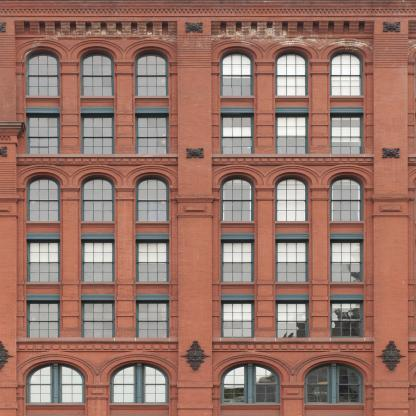Building Outline: (0, 0, 416, 416)
Cornice: (16, 351, 179, 382), (212, 351, 374, 382), (212, 164, 374, 186), (211, 38, 373, 60), (16, 164, 178, 186), (15, 38, 177, 60), (220, 107, 254, 113), (275, 107, 309, 113), (135, 107, 169, 113), (81, 294, 115, 300), (275, 294, 309, 300), (330, 233, 364, 239), (275, 233, 309, 239), (330, 107, 363, 113), (26, 107, 59, 113), (81, 107, 114, 113), (136, 294, 169, 300), (27, 294, 60, 300), (331, 294, 364, 300), (221, 294, 254, 300), (221, 233, 254, 239), (136, 233, 169, 239), (27, 233, 60, 239), (82, 233, 115, 239)
Deco: (376, 340, 407, 371), (180, 340, 211, 371), (0, 341, 15, 371), (382, 148, 400, 159), (186, 148, 204, 159), (383, 21, 401, 32), (185, 22, 203, 33), (0, 146, 7, 157), (0, 22, 6, 33)
Facade: (0, 0, 415, 416)
Floor: (1, 170, 416, 233), (1, 297, 416, 358), (1, 236, 416, 294), (1, 110, 416, 167), (1, 360, 416, 413)
Floor Slab: (1, 107, 416, 110), (1, 413, 416, 416), (1, 357, 416, 360), (1, 294, 416, 297), (1, 233, 416, 236), (1, 167, 416, 170)
Molding: (0, 0, 416, 14), (211, 21, 375, 35), (15, 21, 177, 35), (212, 344, 374, 350), (17, 344, 179, 350), (212, 158, 374, 164), (17, 158, 179, 164)
Sill: (212, 338, 374, 344), (17, 338, 179, 344), (212, 154, 374, 158), (17, 154, 179, 158), (110, 404, 170, 410), (305, 403, 364, 409), (221, 403, 280, 409), (26, 403, 85, 409), (331, 282, 365, 288), (222, 282, 256, 288), (276, 282, 310, 288), (330, 96, 364, 102), (221, 96, 255, 102), (275, 96, 309, 102), (330, 222, 364, 228), (221, 222, 255, 228), (276, 222, 310, 228), (136, 282, 170, 288), (27, 282, 61, 288), (81, 282, 115, 288), (135, 96, 169, 102), (26, 96, 60, 102), (80, 96, 114, 102), (136, 222, 170, 228), (26, 222, 60, 228), (81, 222, 115, 228)
Top Floor: (1, 0, 416, 107)
Window: (304, 362, 364, 404), (109, 362, 169, 404), (220, 362, 280, 404), (26, 362, 85, 404), (135, 175, 170, 221), (25, 49, 59, 96), (330, 49, 364, 96), (80, 49, 114, 96), (135, 49, 169, 96), (220, 49, 254, 96), (275, 49, 309, 96), (26, 175, 60, 221), (330, 175, 364, 221), (81, 175, 115, 221), (221, 175, 255, 221), (275, 175, 309, 221), (330, 239, 364, 282), (221, 239, 254, 282), (276, 239, 309, 282), (136, 239, 169, 282), (27, 239, 60, 282), (81, 239, 114, 282), (220, 113, 254, 154), (135, 113, 169, 154), (26, 113, 60, 154), (330, 113, 363, 154), (275, 113, 308, 154), (81, 113, 114, 154), (275, 300, 309, 338), (81, 300, 115, 338), (331, 300, 364, 338), (221, 300, 254, 338), (136, 300, 169, 338), (27, 300, 60, 338)
